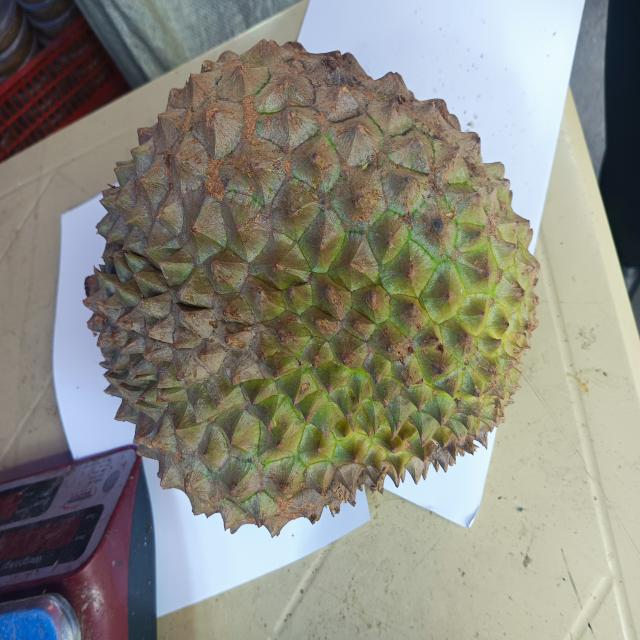mature: (81, 38, 540, 535)
